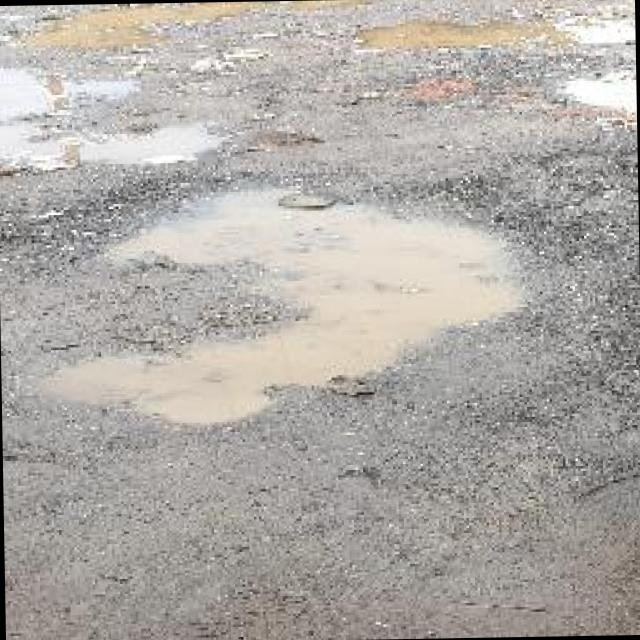waterlogging: (102, 156, 550, 452), (371, 2, 586, 73), (22, 1, 274, 56)
